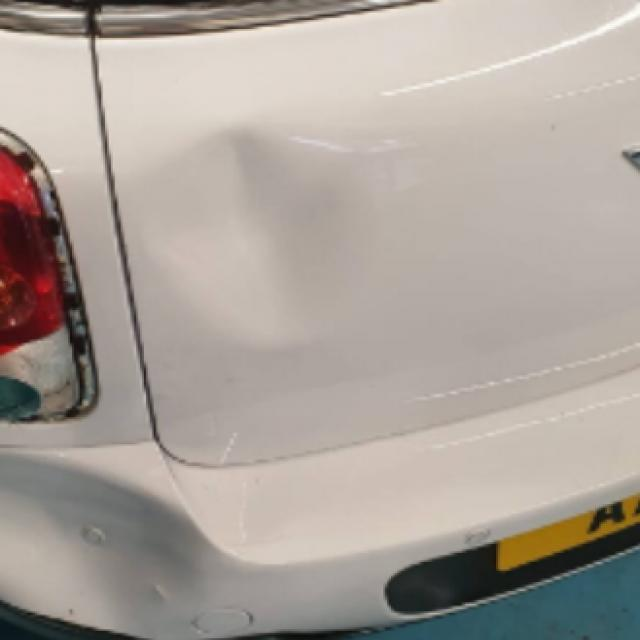dents: (132, 111, 393, 338)
